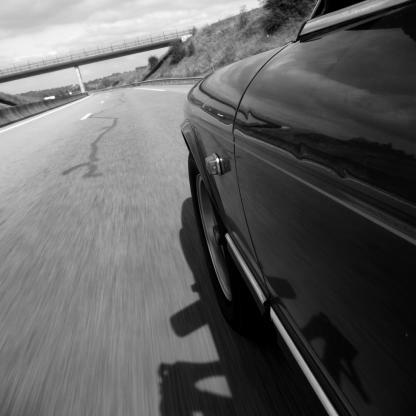car: (159, 6, 416, 416)
